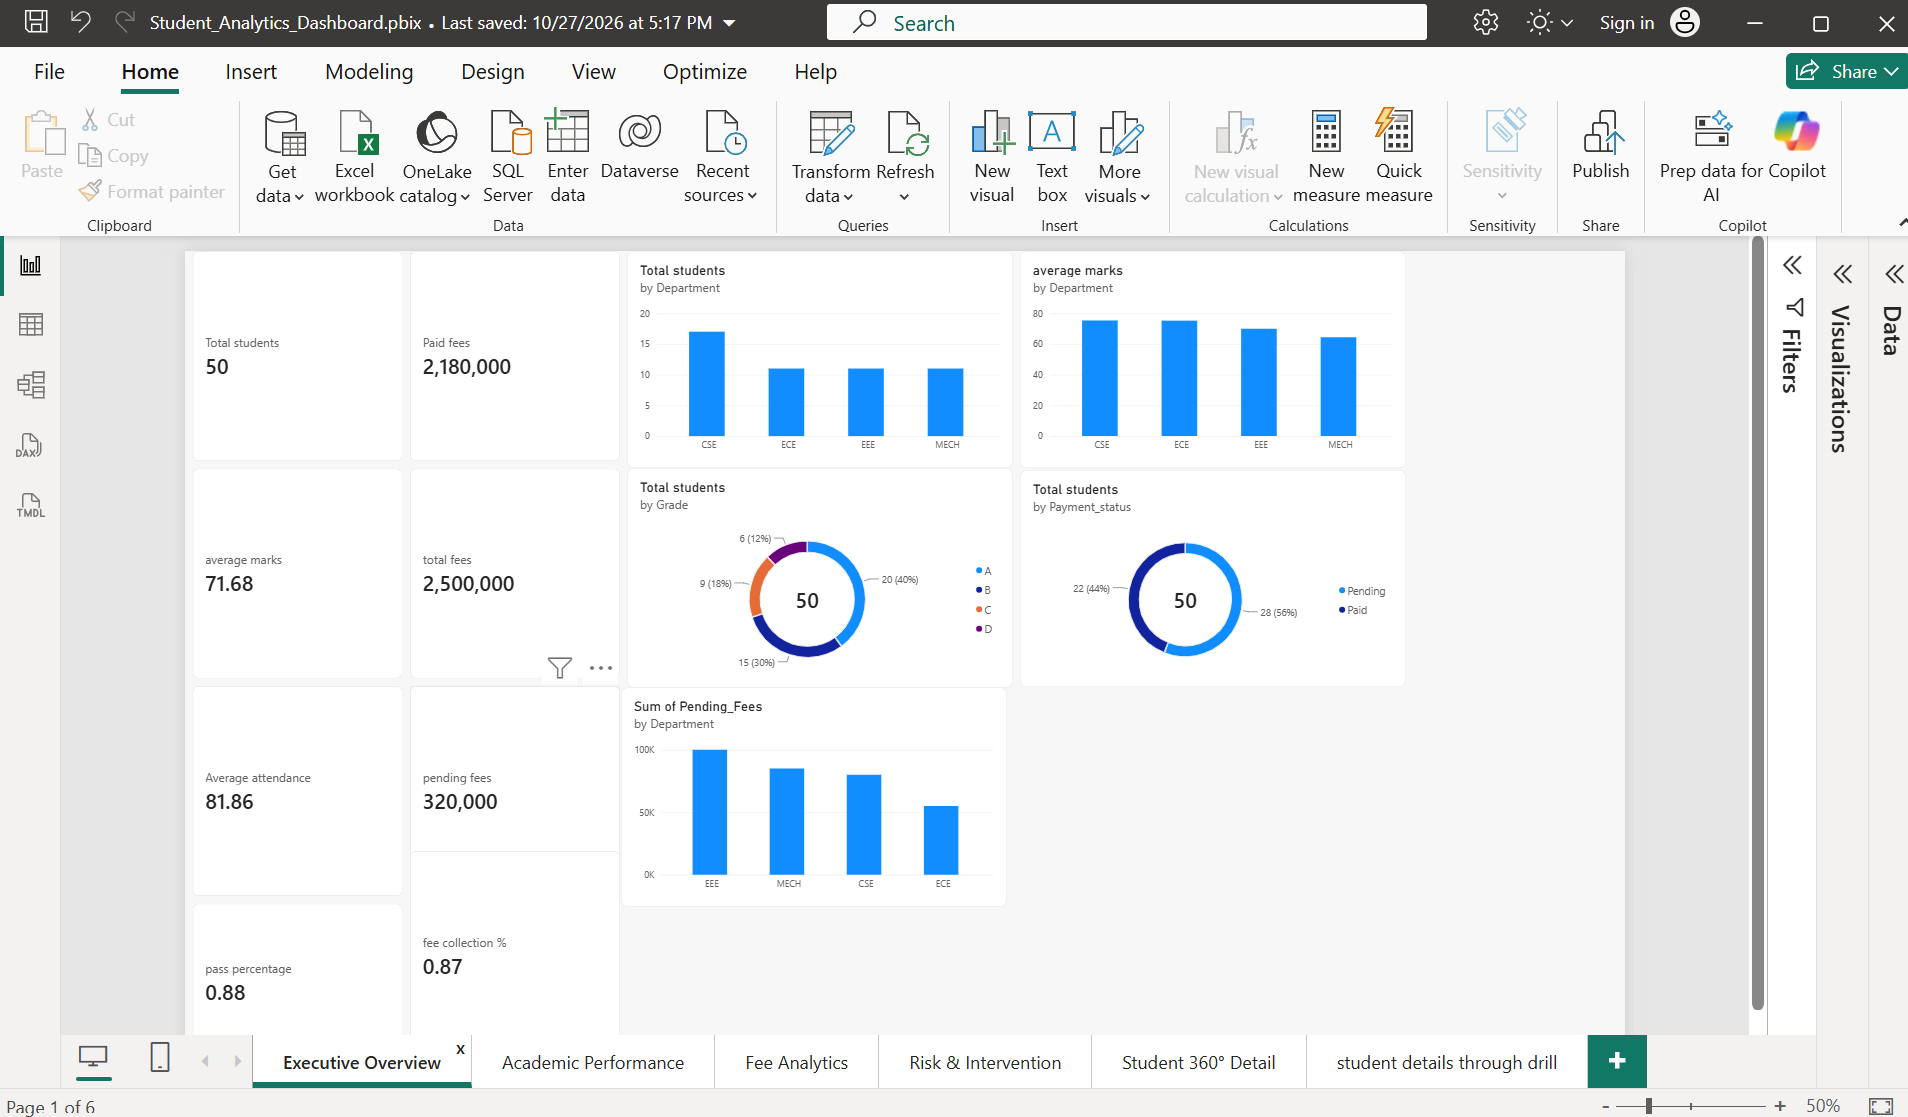

What the dashboard file says about the page in this screenshot:
{"tool":"powerbi","page":{"name":"Executive Overview","canvas":[1920,1080],"ordinal":0},"visuals":[{"type":"cardVisual","fields":{"Data":["Student_performance.Total students"]},"box":[10,0,280,280],"z":0},{"type":"cardVisual","fields":{"Data":["Student_performance.average marks"]},"box":[10,290,280,280],"z":1000},{"type":"cardVisual","fields":{"Data":["Student_performance.Average attendance"]},"box":[10,580,280,280],"z":2000},{"type":"cardVisual","fields":{"Data":["Student_performance.pass percentage"]},"box":[10,870,280,210],"z":3000},{"type":"cardVisual","fields":{"Data":["Student_Fees.Paid fees"]},"box":[300,0,280,280],"z":4000},{"type":"cardVisual","fields":{"Data":["Student_Fees.total fees"]},"box":[300,290,280,280],"z":5000},{"type":"cardVisual","fields":{"Data":["Student_Fees.pending fees"]},"box":[300,580,280,280],"z":6000},{"type":"cardVisual","fields":{"Data":["Student_Fees.fee collection"]},"box":[300,870,280,210],"z":7000},{"type":"cardVisual","fields":{"Data":["Student_Fees.fee collection %"]},"box":[300.5,799.4,280,280],"z":8000},{"type":"columnChart","fields":{"Category":["Student_performance.Department"],"Y":["Student_performance.Total students"]},"box":[589.6,0,513.1,289.1],"z":9000},{"type":"columnChart","fields":{"Category":["Student_performance.Department"],"Y":["Student_performance.average marks"]},"box":[1114,0,513,289],"z":10000},{"type":"donutChart","fields":{"Category":["Student_Fees.Payment_status"],"Y":["Student_performance.Total students"]},"box":[1114,292,513.1,289.1],"z":11000},{"type":"donutChart","fields":{"Category":["Student_performance.Grade"],"Y":["Student_performance.Total students"]},"box":[589.6,289.1,513.1,292],"z":12000},{"type":"columnChart","fields":{"Y":["Sum(Student_Fees.Pending_Fees)"],"Category":["Student_performance.Department"]},"box":[581.1,581.1,513,292],"z":13000}]}

Visuals, with their boxes on the page's 1920x1080 design canvas (x1, y1, x2, y2). These are canvas units, not pixel positions in the 1908x1117 screenshot, which may show the page scaled, cropped or inside an application window:
cardVisual - Student_performance.Total students: bbox(10, 0, 290, 280)
cardVisual - Student_performance.average marks: bbox(10, 290, 290, 570)
cardVisual - Student_performance.Average attendance: bbox(10, 580, 290, 860)
cardVisual - Student_performance.pass percentage: bbox(10, 870, 290, 1080)
cardVisual - Student_Fees.Paid fees: bbox(300, 0, 580, 280)
cardVisual - Student_Fees.total fees: bbox(300, 290, 580, 570)
cardVisual - Student_Fees.pending fees: bbox(300, 580, 580, 860)
cardVisual - Student_Fees.fee collection: bbox(300, 870, 580, 1080)
cardVisual - Student_Fees.fee collection %: bbox(300, 799, 580, 1079)
columnChart - Student_performance.Department x Student_performance.Total students: bbox(590, 0, 1103, 289)
columnChart - Student_performance.Department x Student_performance.average marks: bbox(1114, 0, 1627, 289)
donutChart - Student_Fees.Payment_status x Student_performance.Total students: bbox(1114, 292, 1627, 581)
donutChart - Student_performance.Grade x Student_performance.Total students: bbox(590, 289, 1103, 581)
columnChart - Sum(Student_Fees.Pending_Fees) x Student_performance.Department: bbox(581, 581, 1094, 873)
